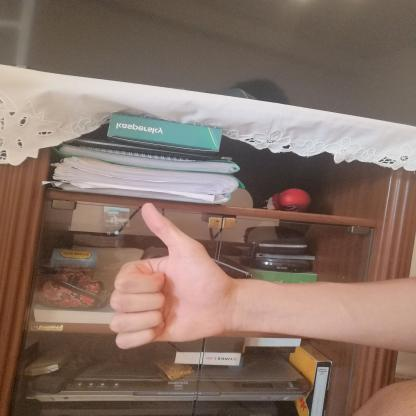ALIF: (94, 194, 246, 359)
